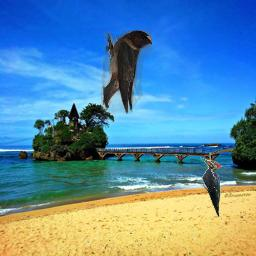Swallow: (101, 30, 152, 114)
Woodpecker: (199, 157, 222, 217)
